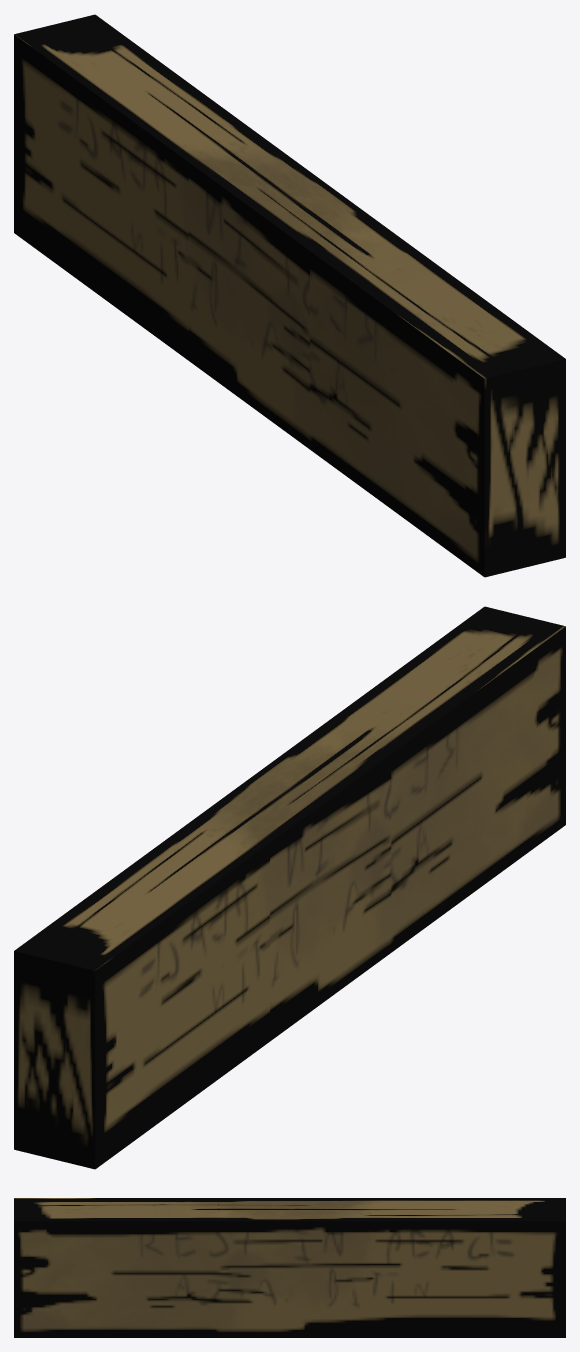
Rendered from tombstone_03_gib2.fbx.
3 renders of one model, top to bottom at view 1: azimuth 30°, elevation 25°; view 2: azimuth 150°, elevation 25°; view 3: azimuth 270°, elevation 25°, orthographic. The views are drawn at different scales.
Visible parts, largest first — view 1: tombstone_03_gib2; view 2: tombstone_03_gib2; view 3: tombstone_03_gib2.
Part boxes in pixels (x1,y1,x2,y2): tombstone_03_gib2: (14, 14, 565, 577); tombstone_03_gib2: (14, 606, 565, 1169); tombstone_03_gib2: (14, 1198, 565, 1337).
Size of the model in its own units: 0.5 by 1.17 by 5.01.
